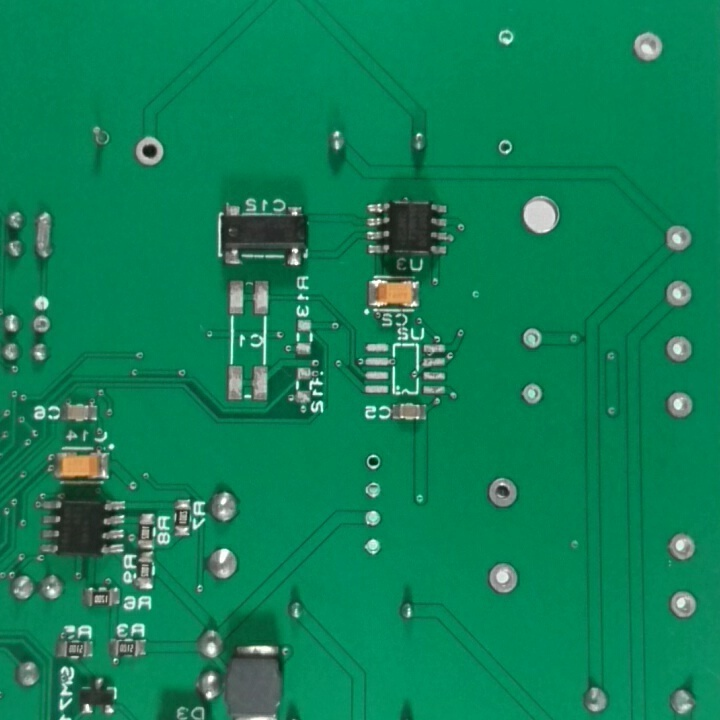F: (486, 471, 519, 515), (485, 560, 521, 600), (629, 28, 665, 66), (130, 135, 167, 171), (662, 275, 697, 312), (662, 386, 698, 421), (666, 587, 700, 622), (662, 219, 695, 255), (665, 529, 699, 563), (662, 333, 696, 366), (516, 378, 546, 409), (516, 324, 545, 355), (84, 123, 114, 151), (30, 313, 52, 340), (361, 536, 385, 559), (494, 26, 518, 48), (496, 135, 516, 159), (364, 450, 382, 473), (363, 509, 383, 529), (362, 481, 378, 501)
P: (32, 210, 57, 263)
